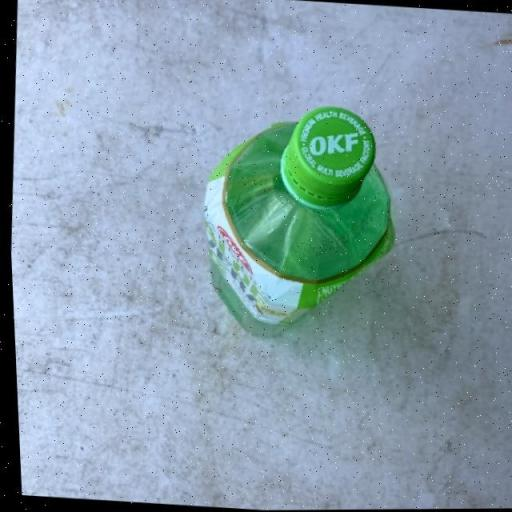plastic: (187, 95, 406, 347)
